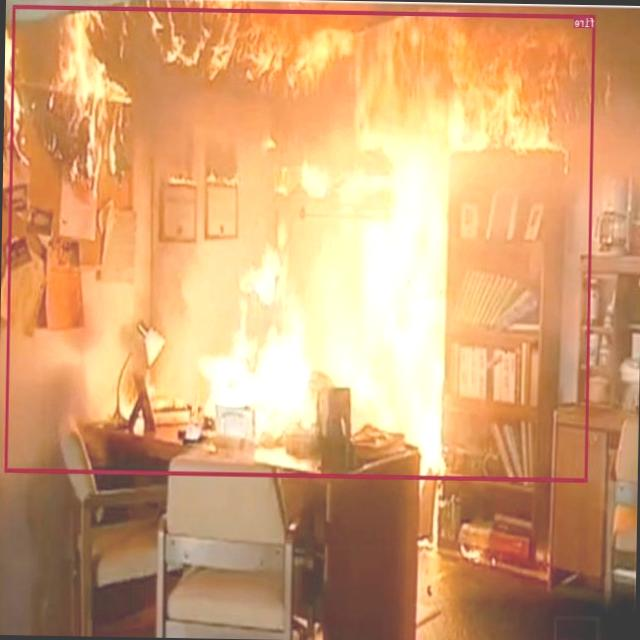fire: (4, 4, 596, 481)
